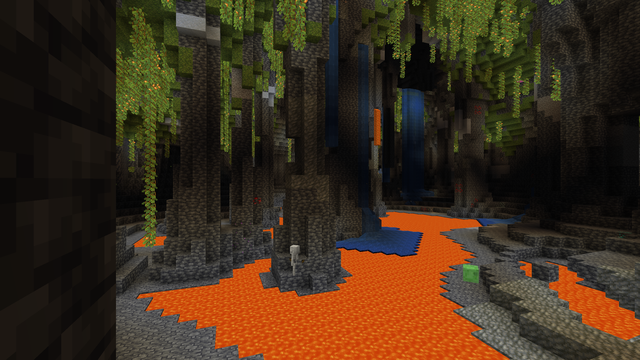slimes: (459, 263, 481, 282)
squelettes: (289, 244, 299, 275)
